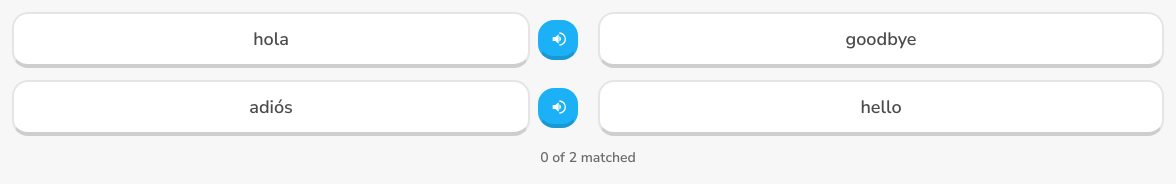
Test: MatchPairsExercise › progress is reported in words as well as colour
Expected: the text "0 of 2 matched" is shown, x1=540 y1=148 x2=636 y2=167
Click the button "hola" at [271, 40], box x1=12 y1=12 x2=530 y2=68
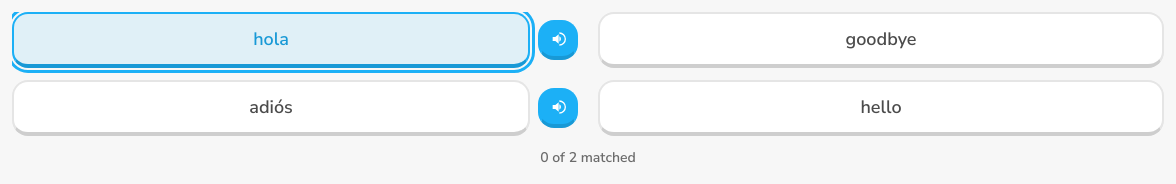
Click the button "hello" at [881, 108], box x1=598 y1=80 x2=1164 y2=136
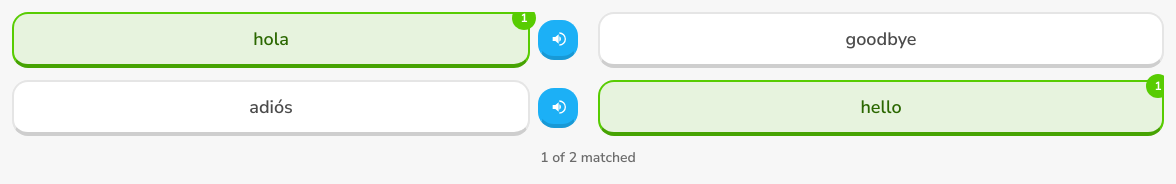
Result: the text "1 of 2 matched" is shown at x1=540 y1=148 x2=636 y2=167
